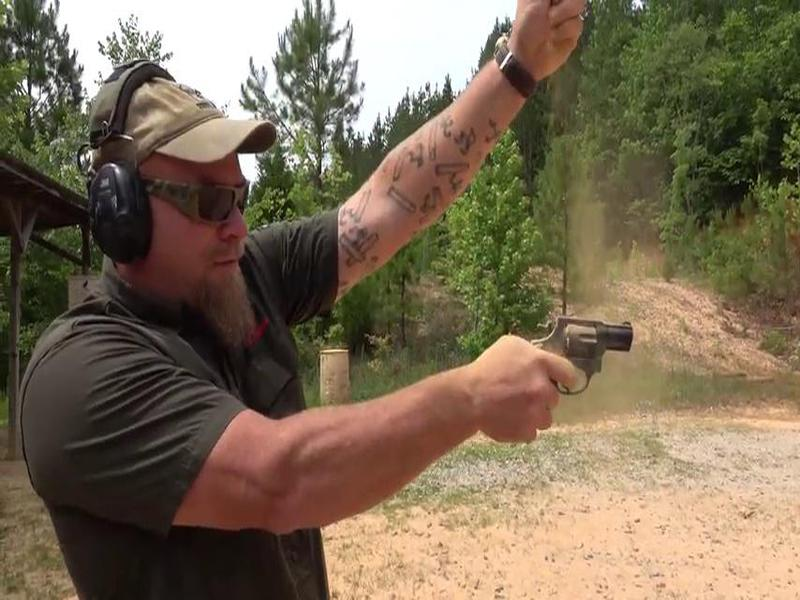Revolver: (488, 291, 656, 425)
